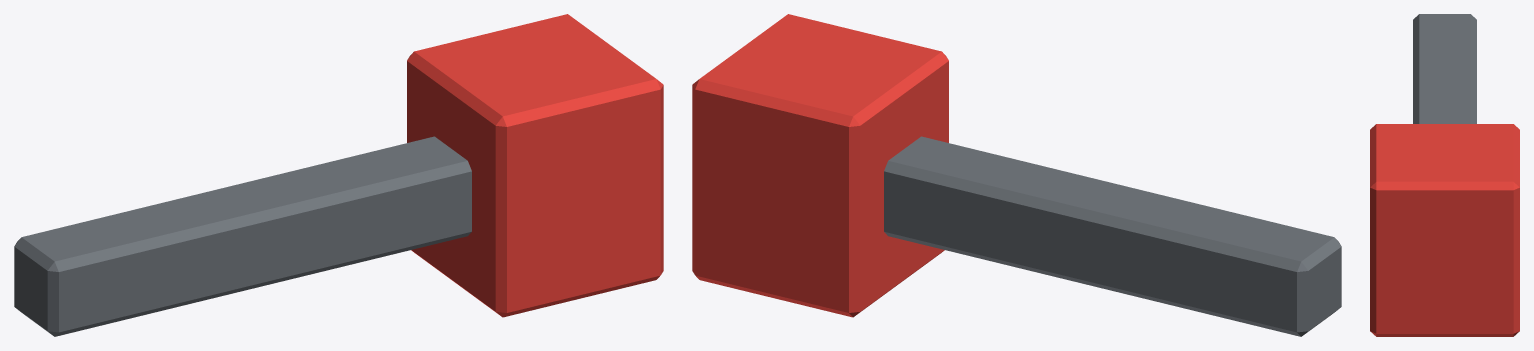
File: toy_hammer.glb
The picture shows the model from 3 angles, left to right: view 1: azimuth 30°, elevation 25°; view 2: azimuth 150°, elevation 25°; view 3: azimuth 270°, elevation 25°; orthographic projection. The views are drawn at different scales.
Parts seen in each view (by area): view 1: toy_hammer; view 2: toy_hammer; view 3: toy_hammer.
Boxes of the visible parts, left/top/right/bottom form: toy_hammer: left=14, top=14, right=663, bottom=336; toy_hammer: left=692, top=14, right=1341, bottom=336; toy_hammer: left=1370, top=14, right=1519, bottom=336.
Bounding box in the file's own units: 0.49 × 0.16 × 0.14.
